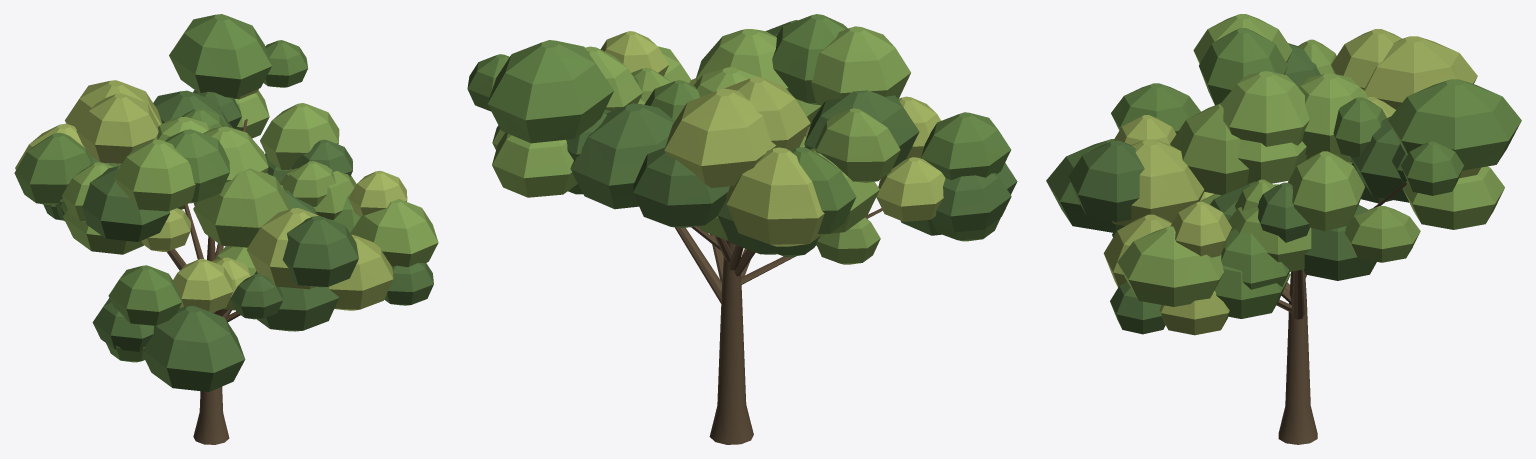
File: oak.glb
3 renders of one model, left to right at view 1: azimuth 30°, elevation 25°; view 2: azimuth 150°, elevation 25°; view 3: azimuth 270°, elevation 25°, orthographic. The views are drawn at different scales.
Visible parts, largest first — view 1: Broad-canopy oak · Oak deep, Broad-canopy oak · Oak light, Broad-canopy oak · Oak green, Broad-canopy oak · Oak tips, Broad-canopy oak · Bark; view 2: Broad-canopy oak · Oak light, Broad-canopy oak · Oak tips, Broad-canopy oak · Oak green, Broad-canopy oak · Oak deep, Broad-canopy oak · Bark; view 3: Broad-canopy oak · Oak light, Broad-canopy oak · Oak green, Broad-canopy oak · Oak tips, Broad-canopy oak · Oak deep, Broad-canopy oak · Bark.
Part boxes in pixels (x1,y1,x2,y2): Broad-canopy oak · Oak deep: (43,90,433,391); Broad-canopy oak · Oak light: (62,90,438,275); Broad-canopy oak · Oak green: (14,14,360,362); Broad-canopy oak · Oak tips: (15,80,407,312); Broad-canopy oak · Bark: (167,119,247,444); Broad-canopy oak · Oak light: (492,26,910,264); Broad-canopy oak · Oak tips: (600,31,945,246); Broad-canopy oak · Oak green: (467,14,1011,241); Broad-canopy oak · Oak deep: (566,20,1017,256); Broad-canopy oak · Bark: (675,208,882,444); Broad-canopy oak · Oak light: (1117,14,1504,306); Broad-canopy oak · Oak green: (1111,28,1521,318); Broad-canopy oak · Oak tips: (1103,29,1480,335); Broad-canopy oak · Oak deep: (1046,43,1409,334); Broad-canopy oak · Bark: (1276,183,1406,444).
Size of the model in its own units: 4.01 by 4.05 by 4.4.
